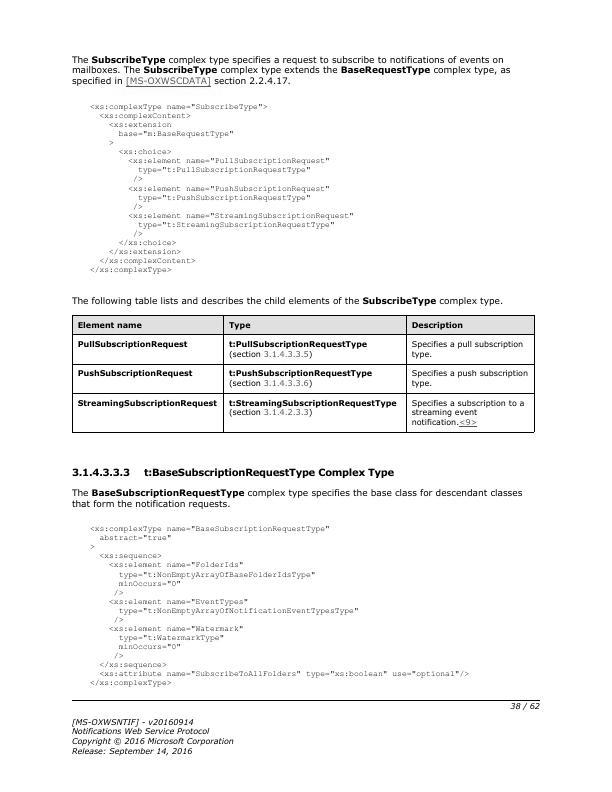table: (68, 312, 537, 436)
text: (87, 523, 470, 687), (85, 100, 356, 273), (68, 52, 513, 87), (68, 486, 524, 509), (67, 715, 234, 758), (68, 293, 507, 307), (68, 463, 397, 480)
